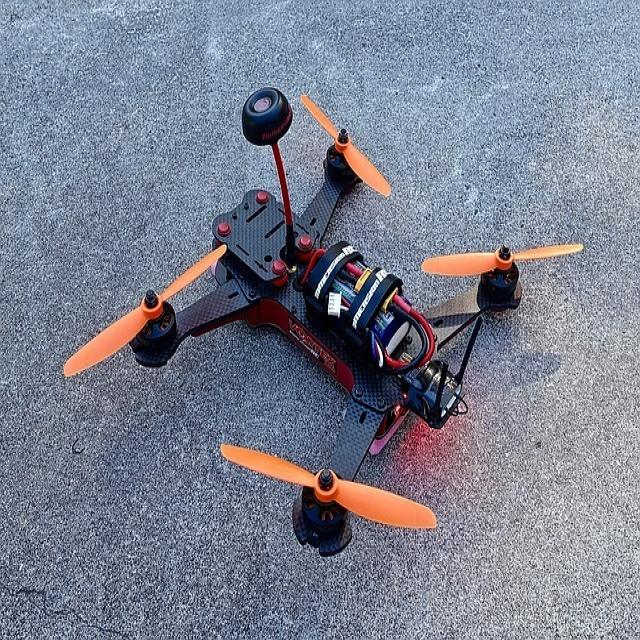drone: (90, 87, 559, 565)
